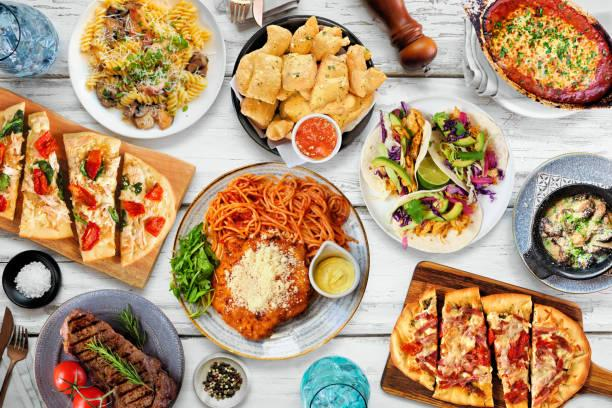Braised Crucian Carp: (172, 163, 365, 359), (381, 262, 607, 407), (359, 96, 510, 254), (68, 1, 223, 141), (230, 15, 373, 156), (461, 0, 610, 118), (33, 289, 183, 406), (308, 240, 361, 298)
